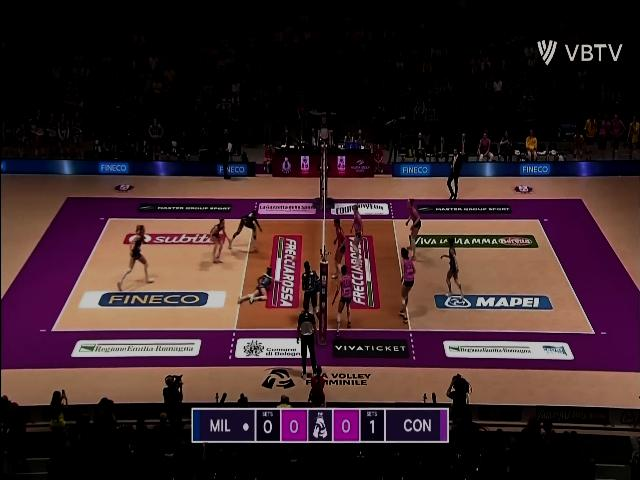volleyball court: (45, 218, 599, 333)
